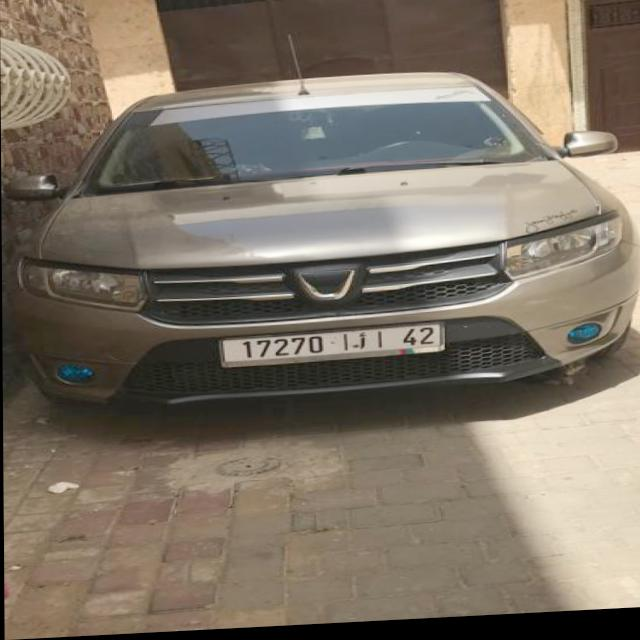License-Plate: (222, 329, 445, 370)
